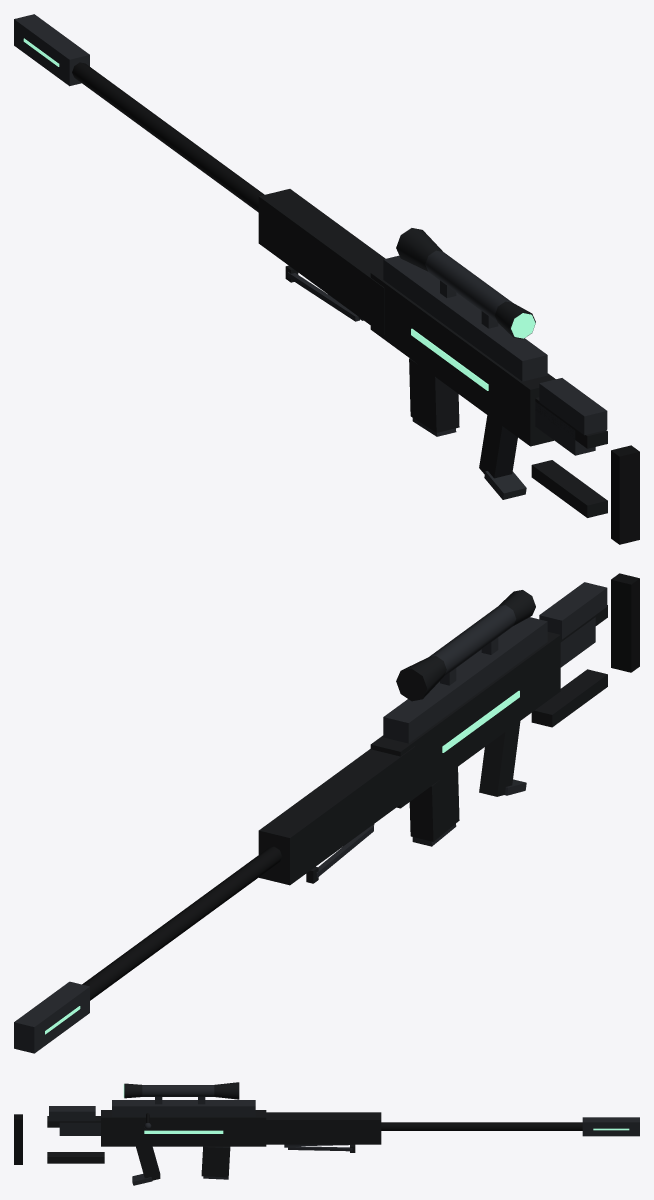
The model's file is Recon_Sniper.glb.
3 renders of one model, top to bottom at view 1: azimuth 30°, elevation 25°; view 2: azimuth 150°, elevation 25°; view 3: azimuth 270°, elevation 25°, orthographic. The views are drawn at different scales.
Visible parts, largest first — view 1: Recon_Sniper_Rifle; view 2: Recon_Sniper_Rifle; view 3: Recon_Sniper_Rifle.
Part boxes in pixels (x1=…): Recon_Sniper_Rifle: x1=14, y1=14, x2=639, y2=544; Recon_Sniper_Rifle: x1=14, y1=573, x2=639, y2=1053; Recon_Sniper_Rifle: x1=14, y1=1082, x2=639, y2=1185.
Bounding box in the file's own units: 0.087 × 0.3086 × 1.74.
